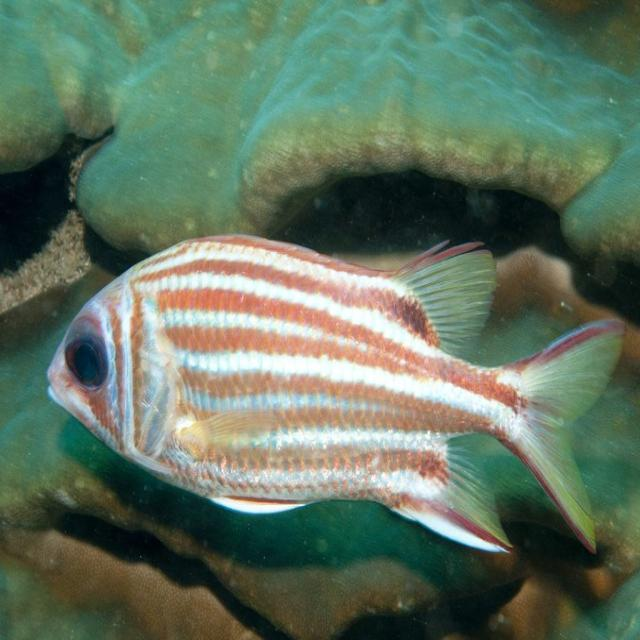Asker Baligi: (43, 227, 639, 570)
